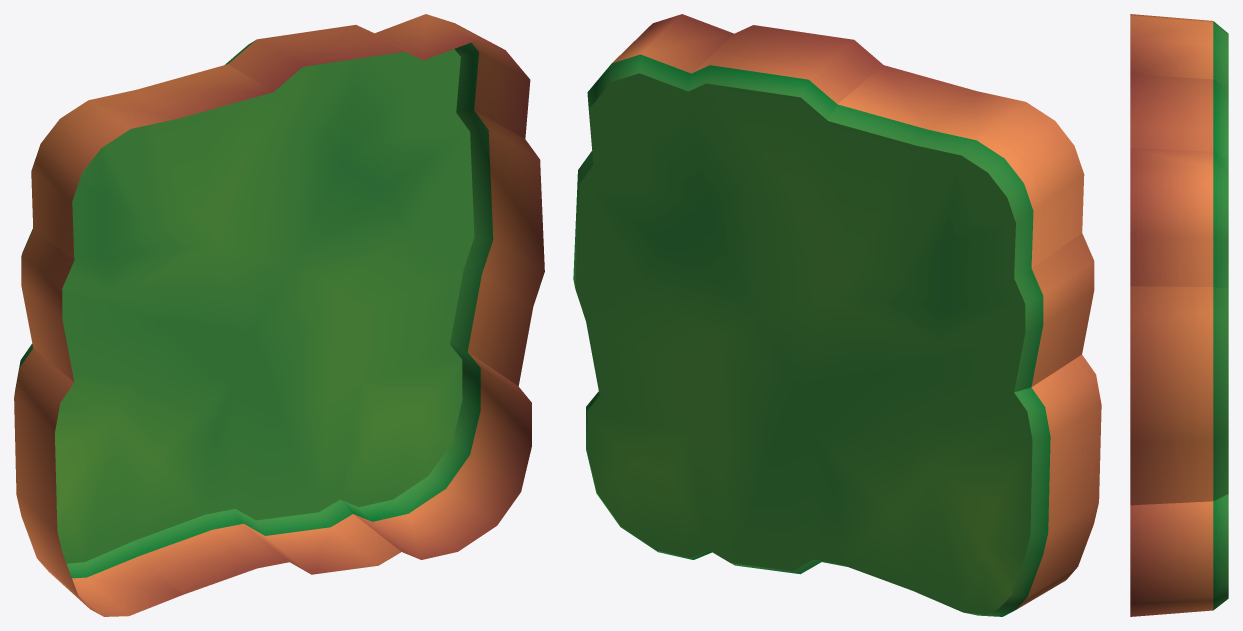
File: Battleground 01.FBX
3 renders of one model, left to right at view 1: azimuth 30°, elevation 25°; view 2: azimuth 150°, elevation 25°; view 3: azimuth 270°, elevation 25°, orthographic. The views are drawn at different scales.
Parts seen in each view (by area): view 1: Battleground 01; view 2: Battleground 01; view 3: Battleground 01.
Boxes of the visible parts, left/top/right/bottom form: Battleground 01: left=14, top=14, right=544, bottom=616; Battleground 01: left=573, top=14, right=1101, bottom=616; Battleground 01: left=1130, top=14, right=1228, bottom=616.
Size of the model in its own units: 2183 by 420 by 2226.
Materials: 1 (1 with a texture image).
